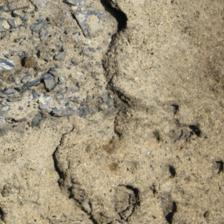Crack: (0, 0, 115, 100), (32, 0, 104, 106)
